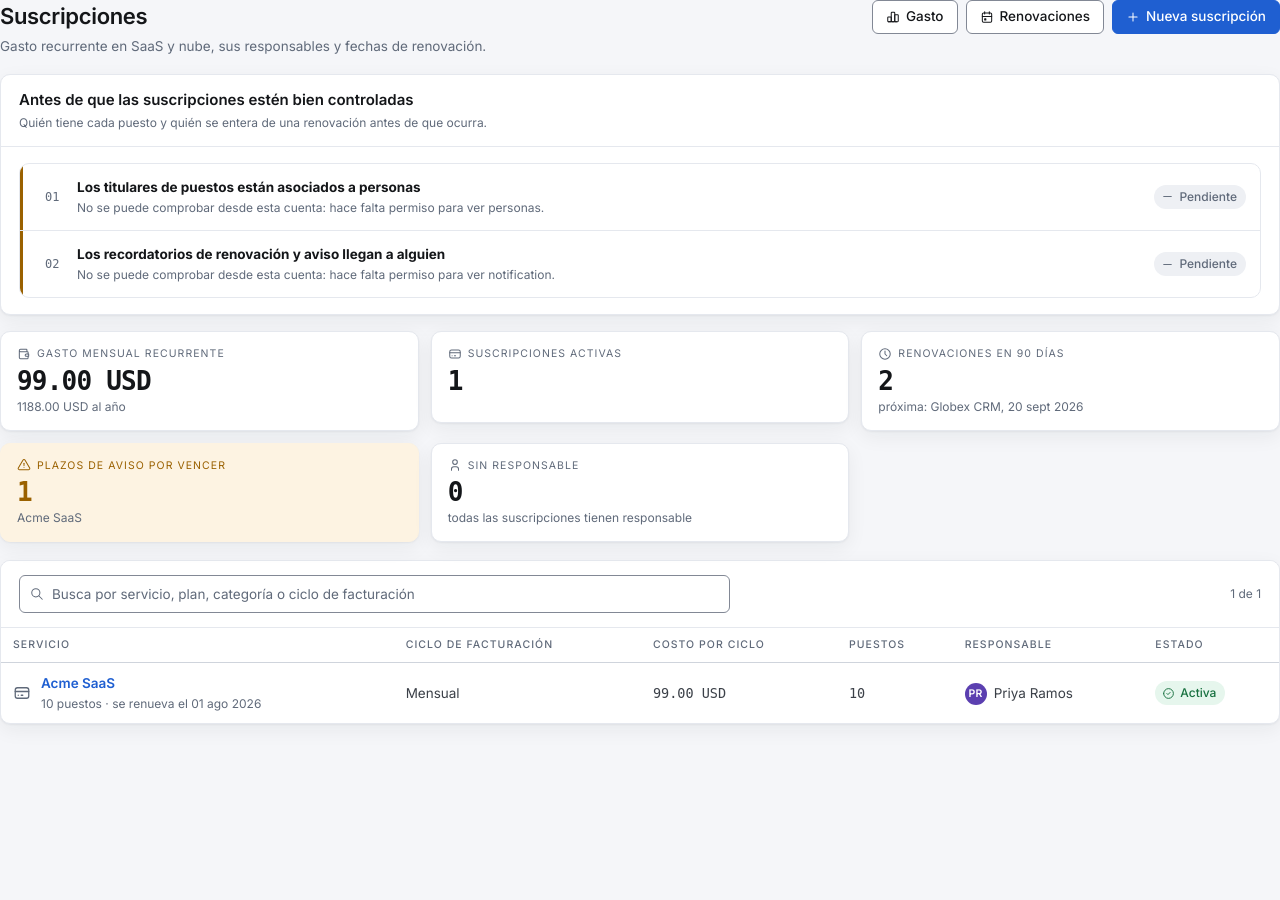
Test: the subscriptions register in Spanish › echoes the renewal date it will record, in Spanish
Expected: the link "Acme SaaS" is shown, [41, 675, 115, 691]
Click the button "Nueva suscripción": (1196, 17) [1112, 0, 1279, 34]
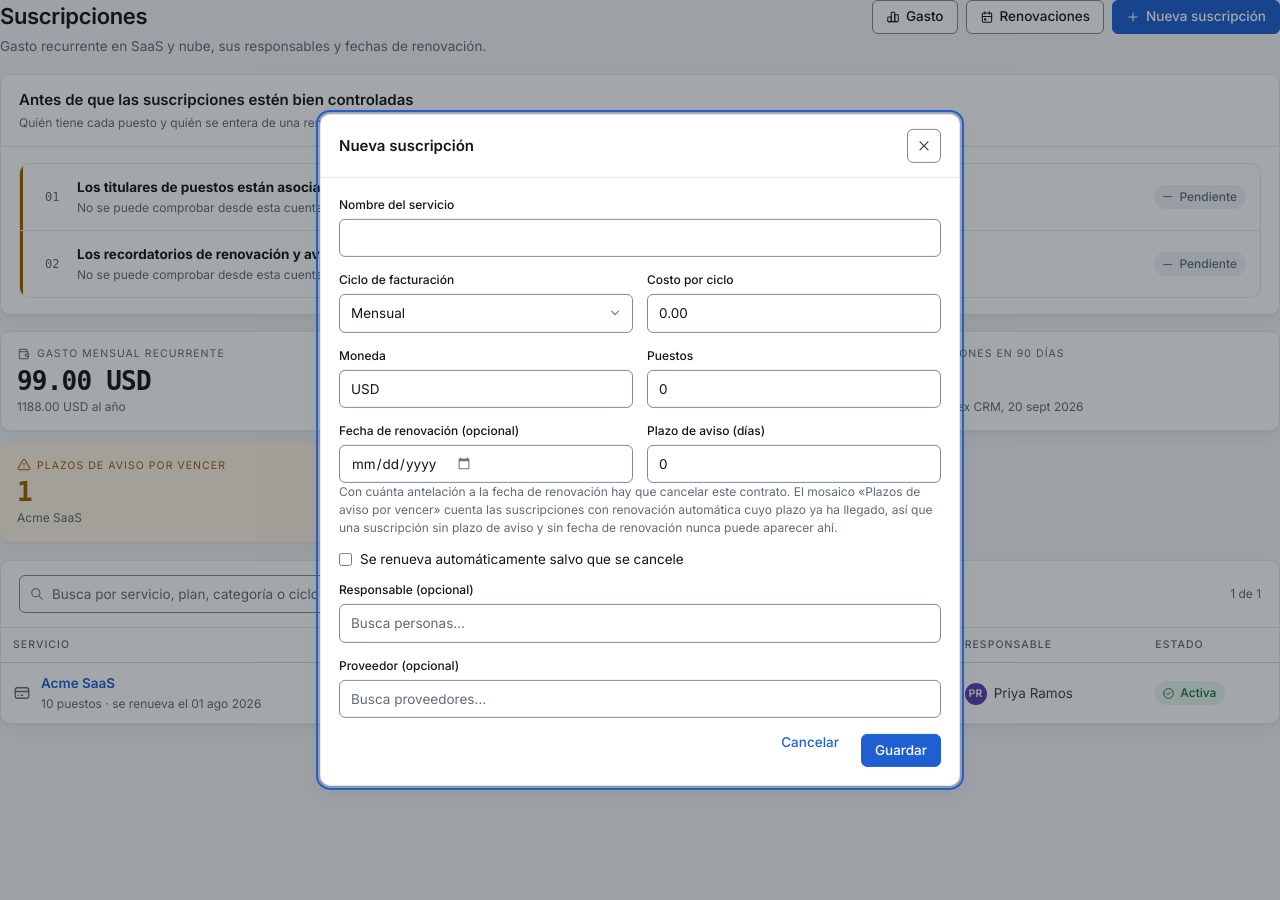
In the date field labelled "Fecha de renovación (opcional)": (486, 464) [339, 445, 633, 483], type "2026-09-22"
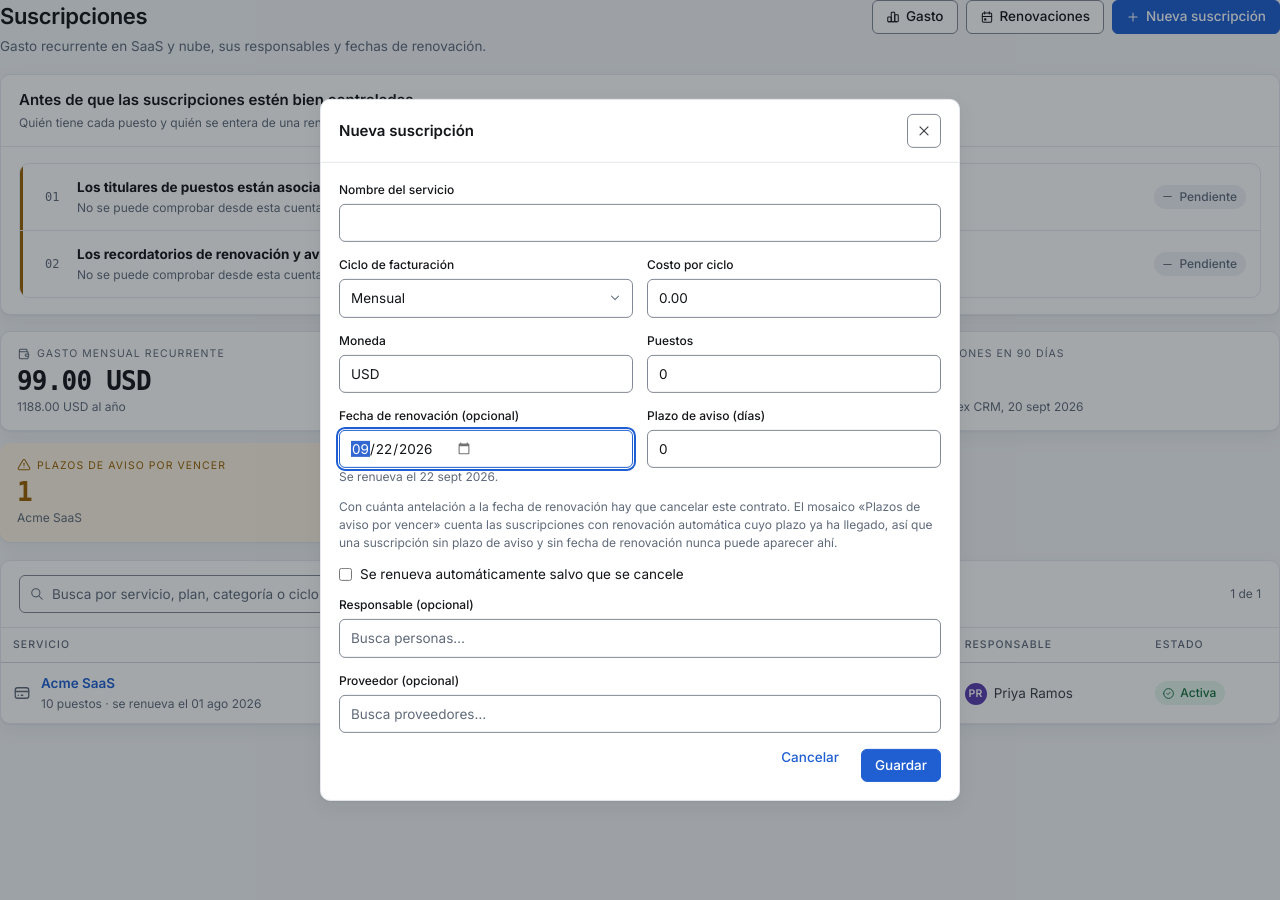
Now the text "Se renueva el 22 sept 2026." is shown, box [339, 469, 498, 484]
